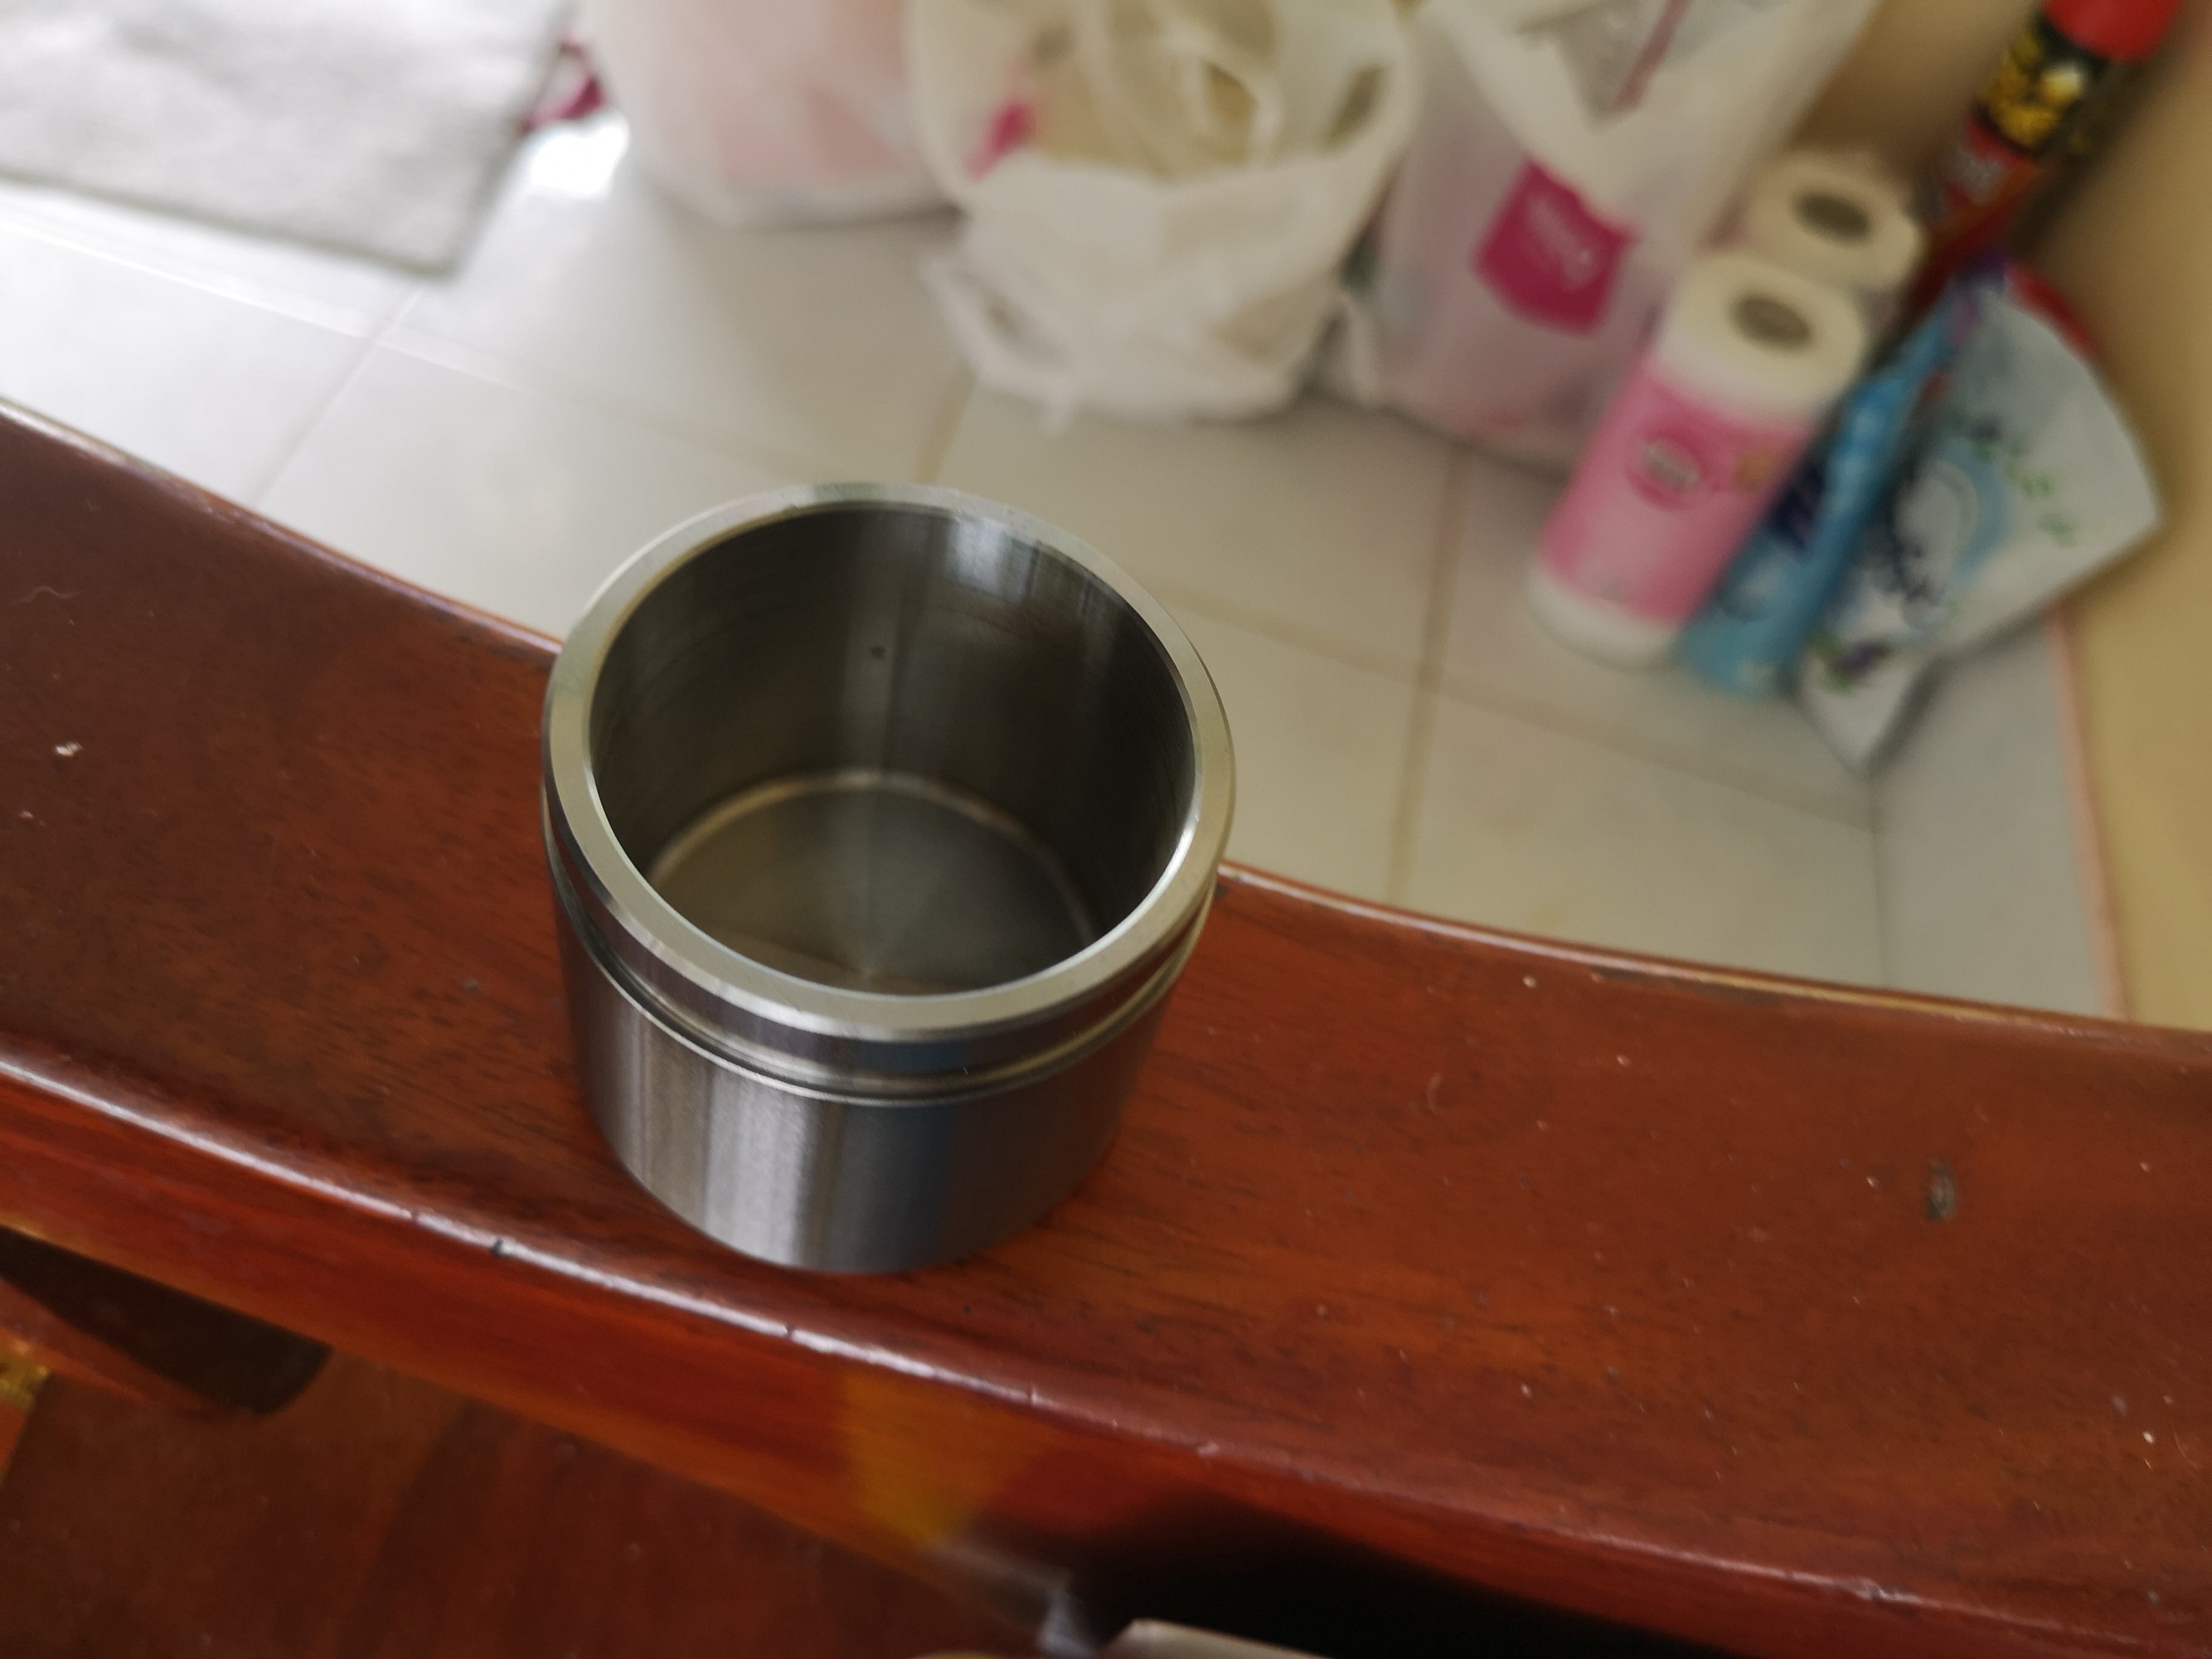ลูกสูบดิสเบรค: (493, 469, 1306, 1283)
